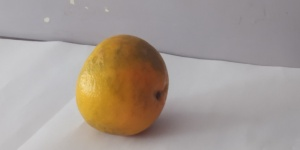BAD: (75, 34, 169, 138)
